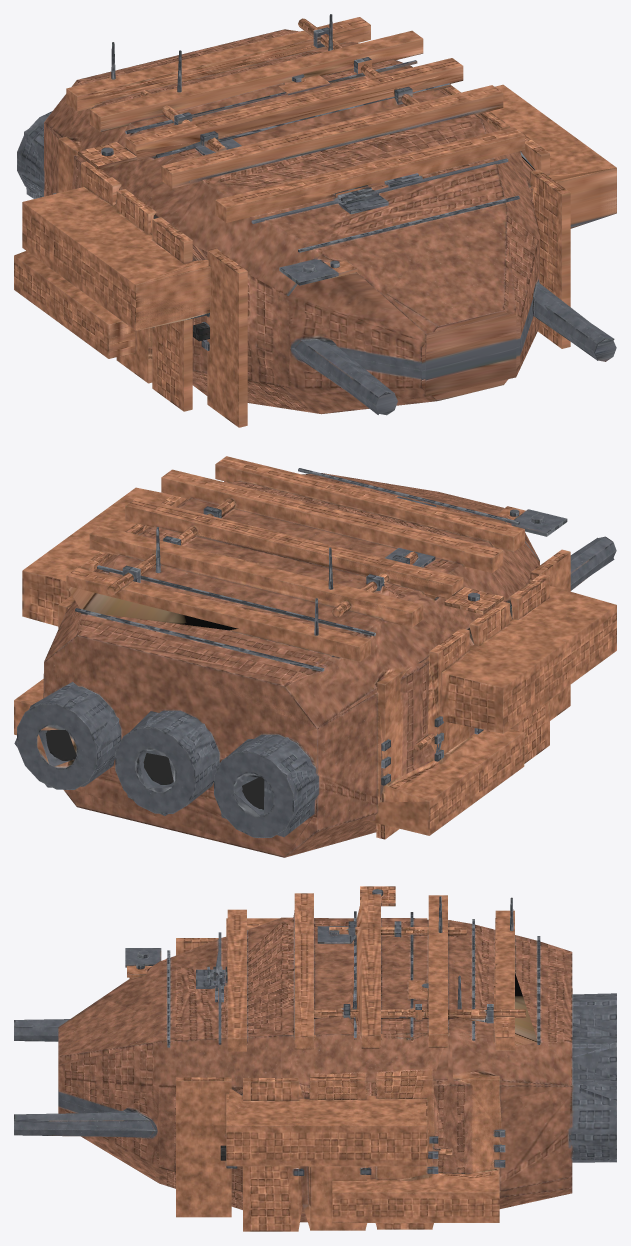
File: sd_npc_brute.glb
3 renders of one model, top to bottom at view 1: azimuth 30°, elevation 25°; view 2: azimuth 150°, elevation 25°; view 3: azimuth 270°, elevation 25°, orthographic. The views are drawn at different scales.
Visible parts, largest first — view 1: LOD0_body, LOD1_body; view 2: LOD0_body, LOD1_body; view 3: LOD0_body, LOD1_body.
Boxes of the visible parts, x1,y1,x2,y2 form: LOD0_body: (14,14,616,427); LOD1_body: (14,29,616,414); LOD0_body: (14,456,616,857); LOD1_body: (14,474,616,857); LOD0_body: (14,886,616,1231); LOD1_body: (14,896,616,1228).
Size of the model in its own units: 0.8148 by 0.4295 by 1.
1 material, 1 textured.
